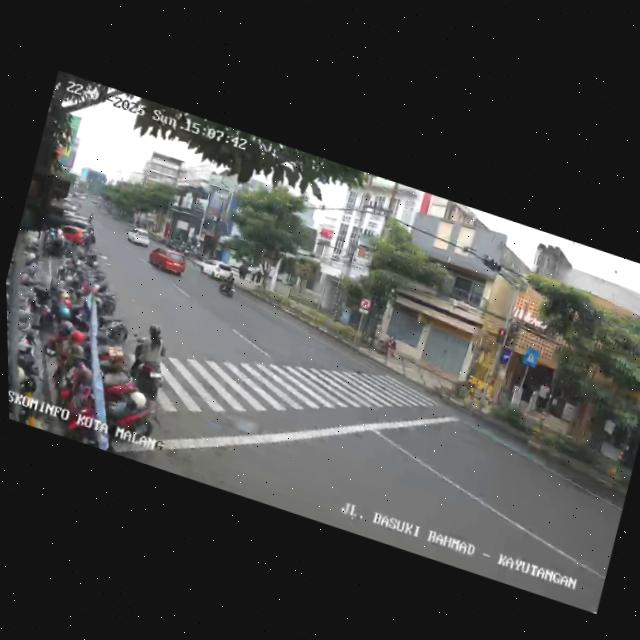car: (145, 241, 189, 281), (124, 221, 152, 249)
motorcycle: (117, 315, 178, 402), (215, 265, 241, 300)
